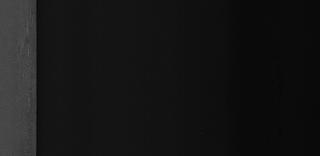silk spot: (10, 20, 32, 66)
